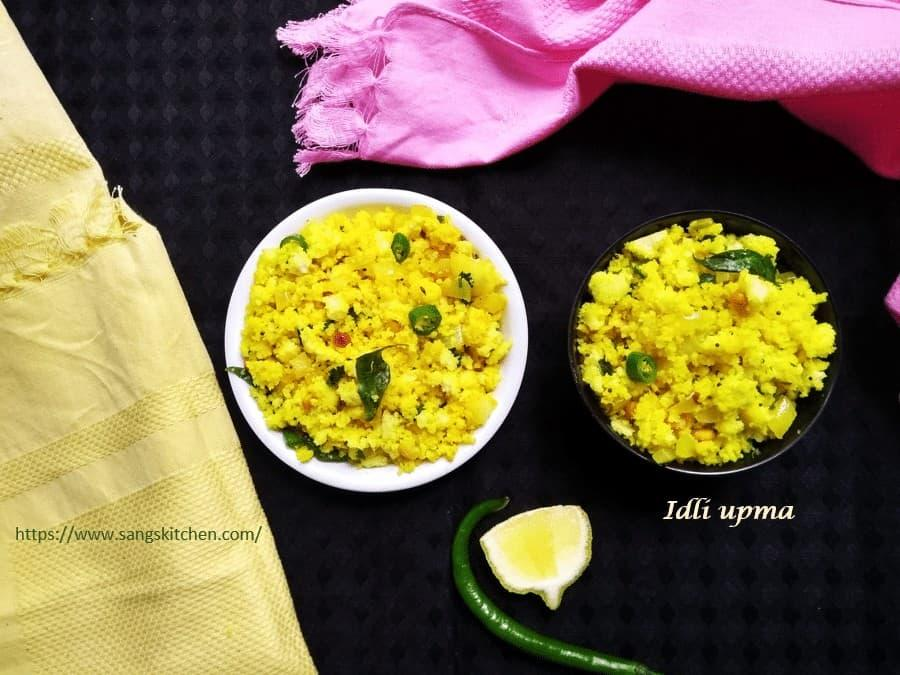upma: (224, 196, 518, 476), (567, 224, 835, 472)
